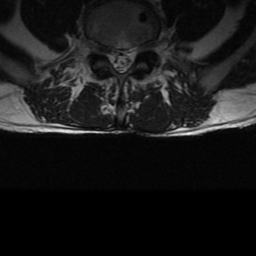CCS_normal: (115, 43, 126, 77)
LFS_normal: (136, 38, 145, 60)
LLS_normal: (126, 42, 136, 70)
RFS_normal: (96, 37, 106, 62)
RLS_normal: (106, 41, 115, 73)
